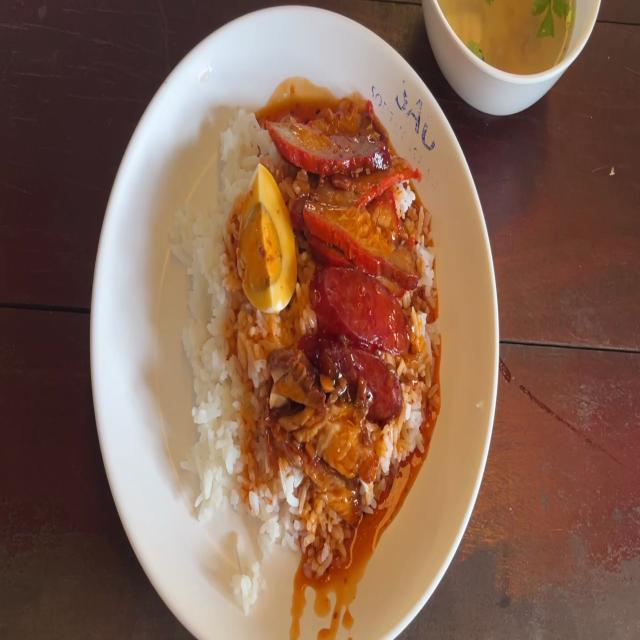01boiled_egg: (240, 170, 293, 302)
01chainese_sausage: (312, 267, 407, 412)
01crispy_pork: (303, 414, 375, 508)
01red_pork: (290, 122, 417, 266), (306, 194, 415, 265), (277, 121, 394, 165)
01red_pork_and_crispy_pork: (184, 111, 432, 564)
01rice: (176, 193, 242, 540), (237, 407, 278, 548), (217, 125, 255, 187)
